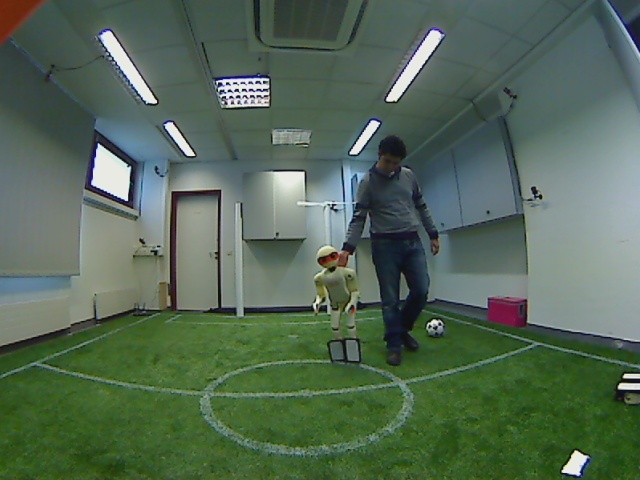ball: (422, 315, 448, 339)
robot: (310, 245, 367, 364)
